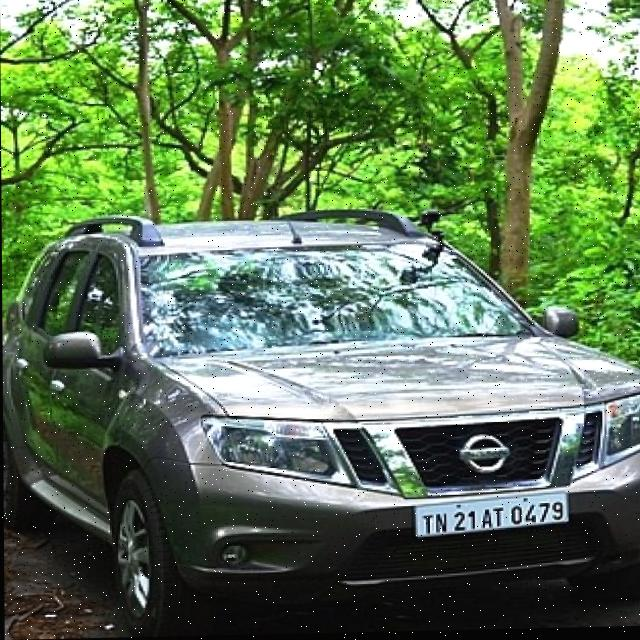plate: (413, 489, 570, 546)
